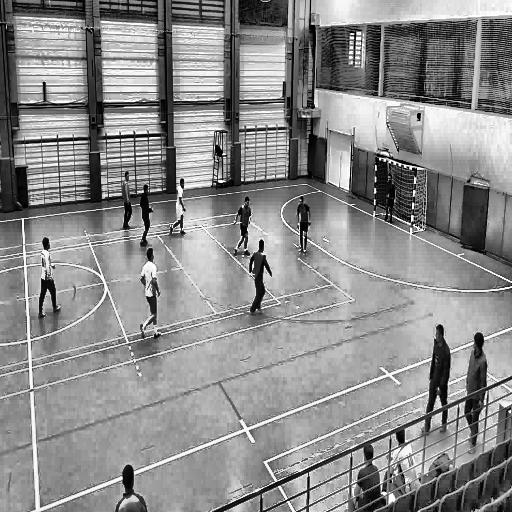ball: (251, 263, 256, 275)
player: (419, 320, 450, 436), (465, 329, 488, 458), (36, 234, 62, 320), (248, 236, 274, 321), (140, 247, 162, 341), (232, 189, 252, 258), (296, 193, 314, 258), (168, 175, 186, 237), (137, 182, 153, 247), (383, 172, 397, 228), (121, 166, 132, 232)
